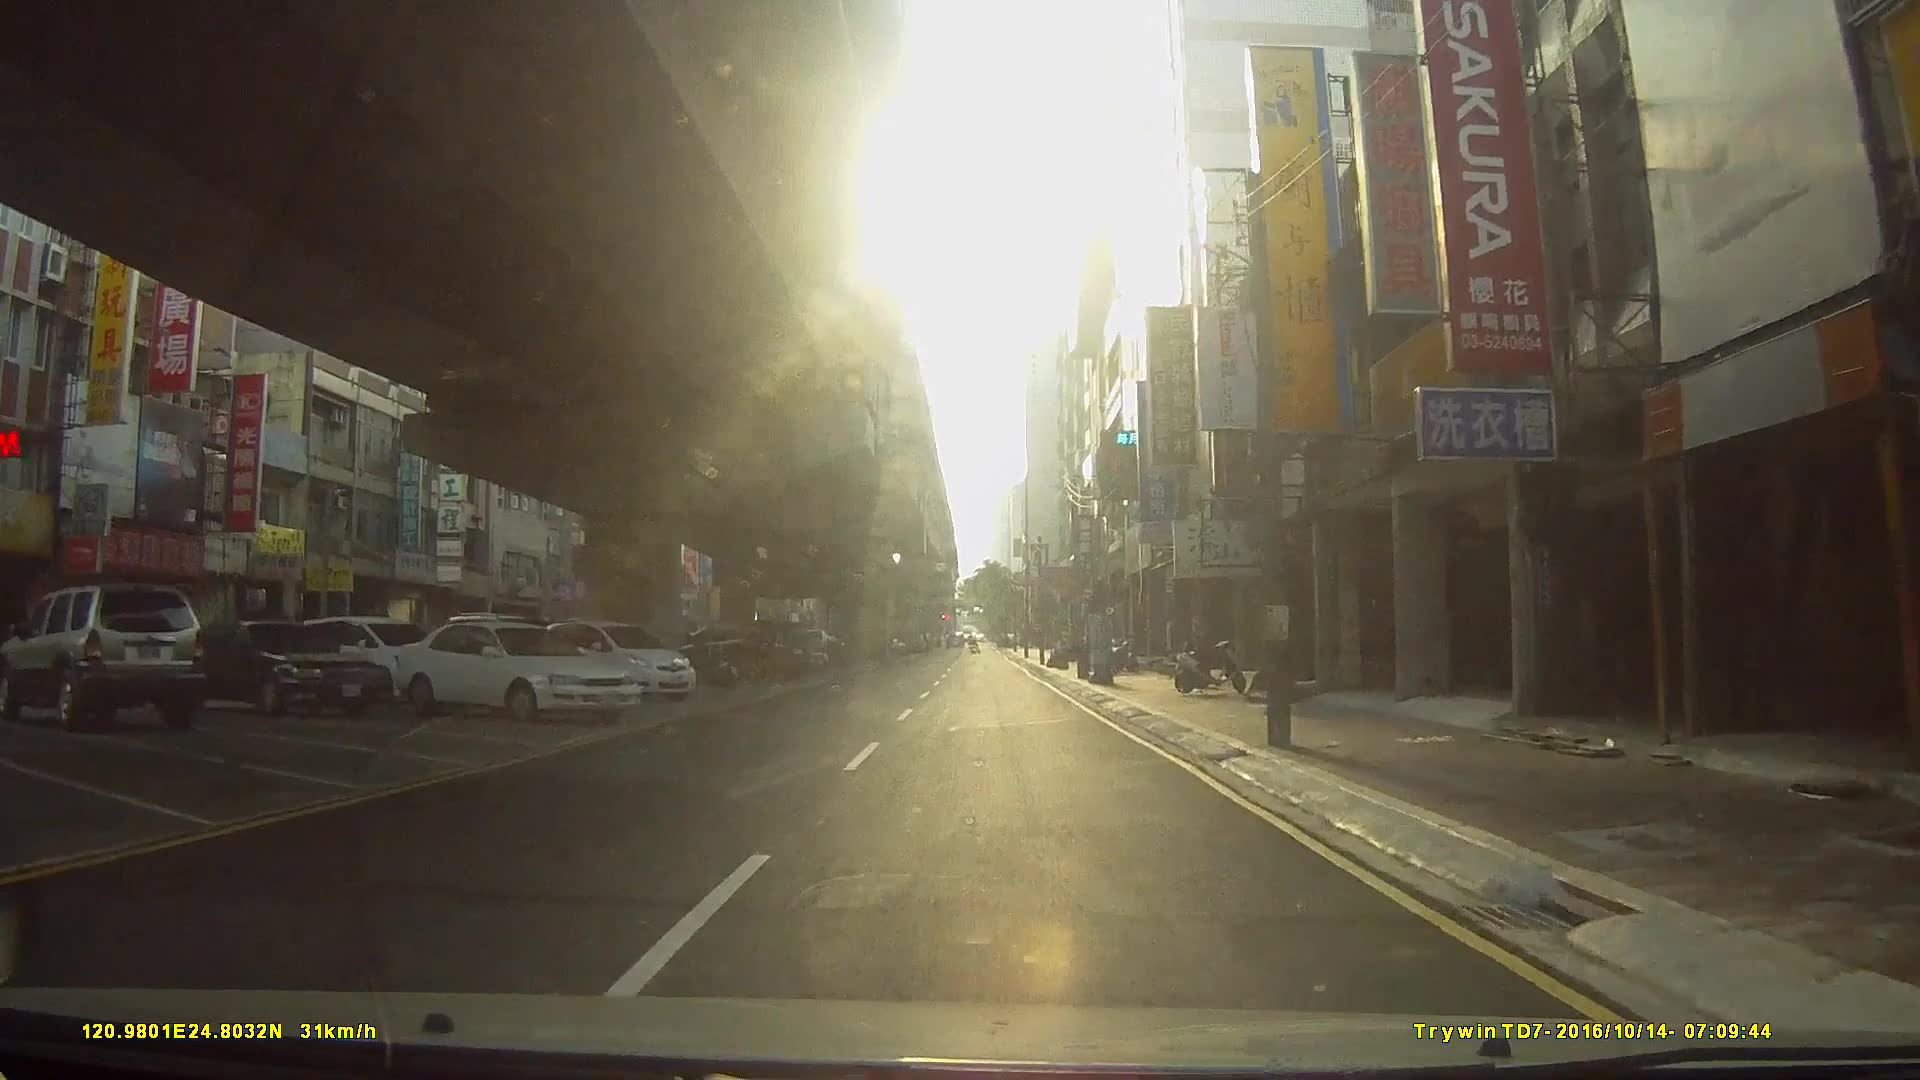vehicle: (0, 585, 207, 736), (389, 616, 641, 725), (166, 618, 390, 716), (531, 620, 694, 707)
